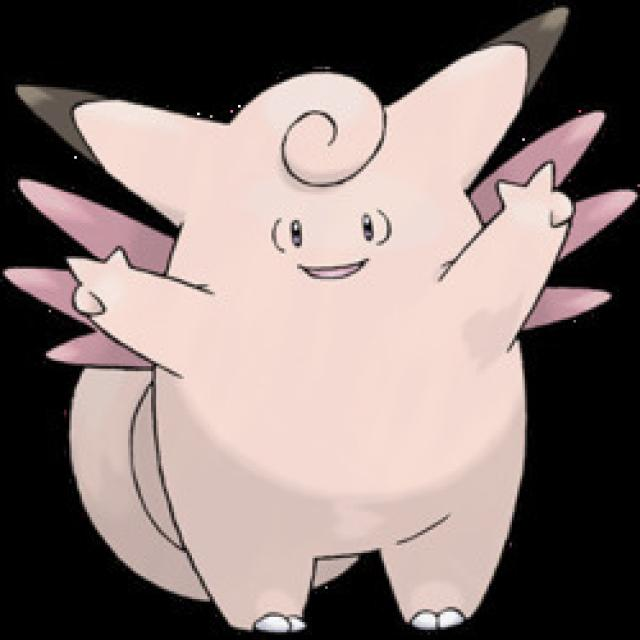Clefable: (10, 61, 592, 629)
